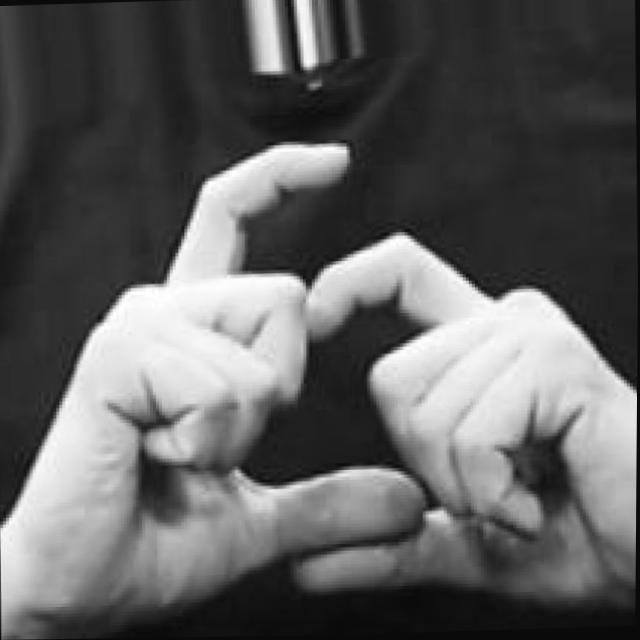G: (0, 123, 639, 640)
